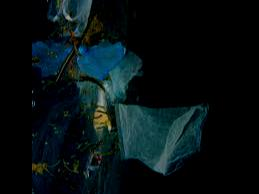Plastic: (109, 94, 214, 172), (81, 43, 148, 98), (51, 0, 105, 29)
